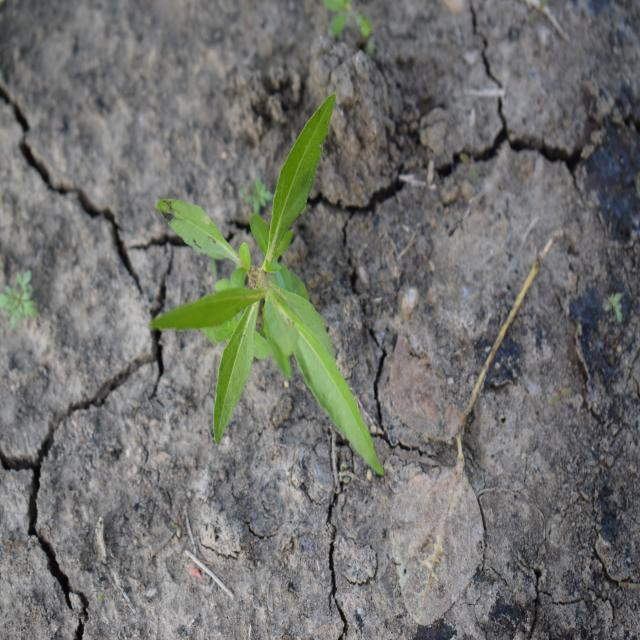Eclipta: (147, 91, 386, 478)
Ragweed: (1, 269, 41, 330)
